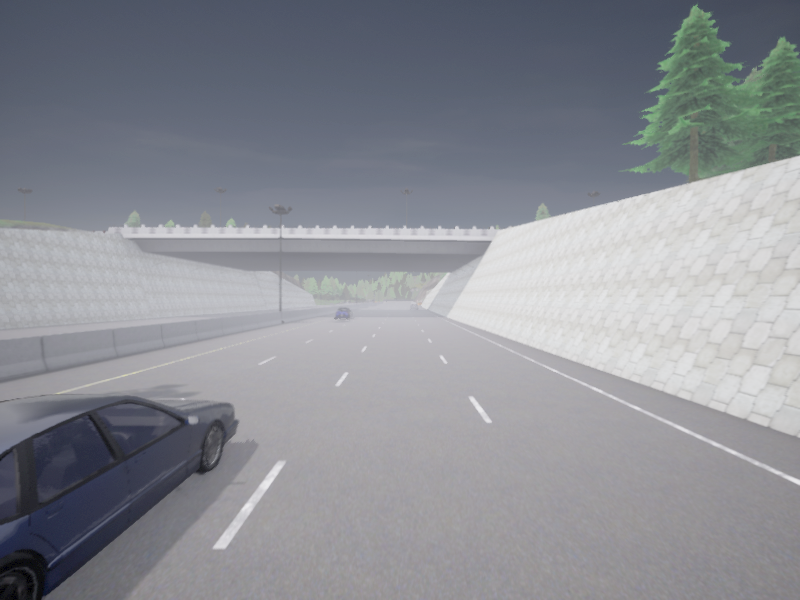vehicle: (0, 394, 238, 599), (335, 307, 352, 319), (410, 304, 417, 309)
